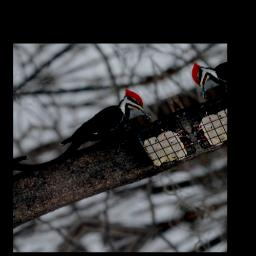Woodpecker: (33, 85, 164, 176)
